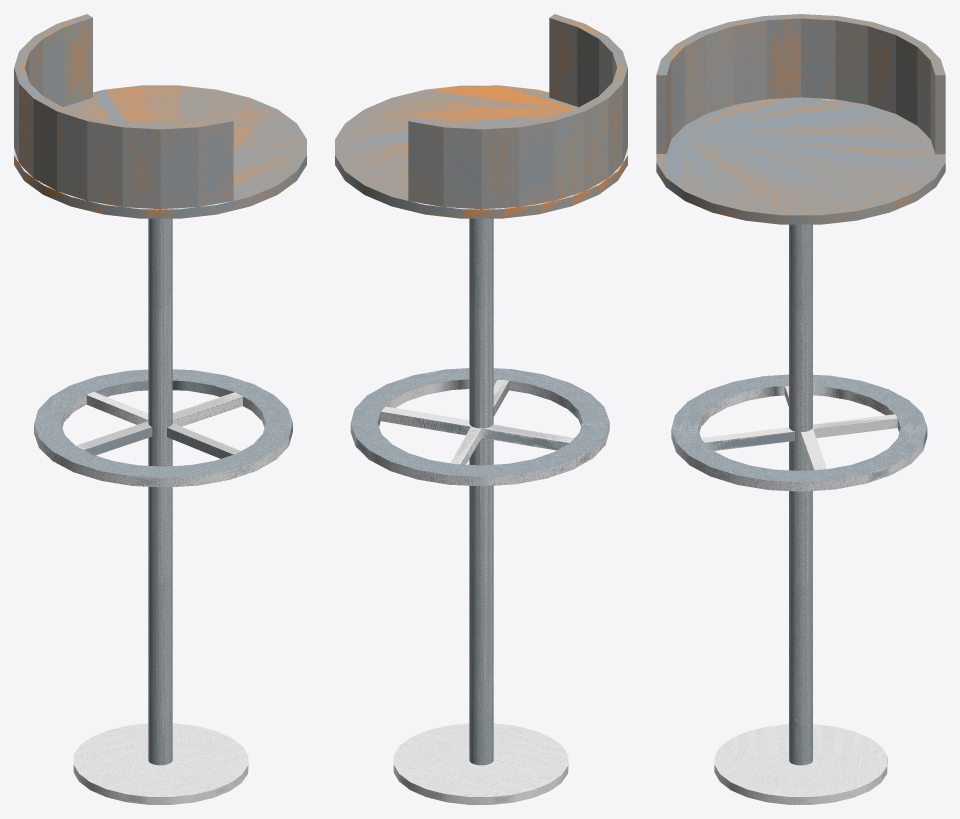
The model's file is Kitchen_Stool.fbx.
3 renders of one model, left to right at view 1: azimuth 30°, elevation 25°; view 2: azimuth 150°, elevation 25°; view 3: azimuth 270°, elevation 25°, orthographic.
Visible parts, largest first — view 1: Group1; view 2: Group1; view 3: Group1.
Boxes of the visible parts, x1=… form: Group1: x1=14, y1=14, x2=306, y2=804; Group1: x1=335, y1=14, x2=627, y2=804; Group1: x1=656, y1=14, x2=945, y2=804.
Size of the model in its own units: 13.09 by 34.57 by 13.09.
